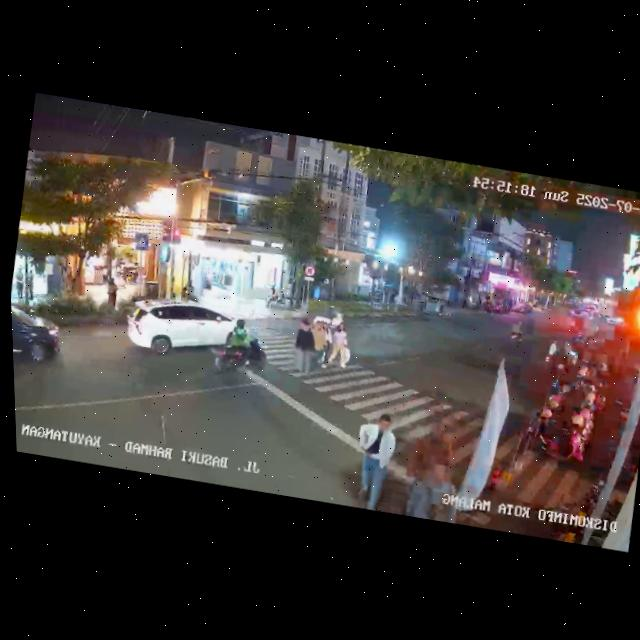car: (120, 290, 246, 371), (11, 303, 68, 380)
motorcycle: (213, 317, 274, 379), (540, 340, 561, 373), (507, 317, 528, 346)
person: (348, 405, 406, 512), (407, 454, 464, 523), (404, 415, 458, 484), (289, 318, 321, 376), (324, 321, 352, 374), (303, 318, 328, 373), (316, 318, 336, 370), (104, 275, 121, 310), (11, 268, 28, 301), (22, 270, 38, 301), (263, 284, 277, 309)
